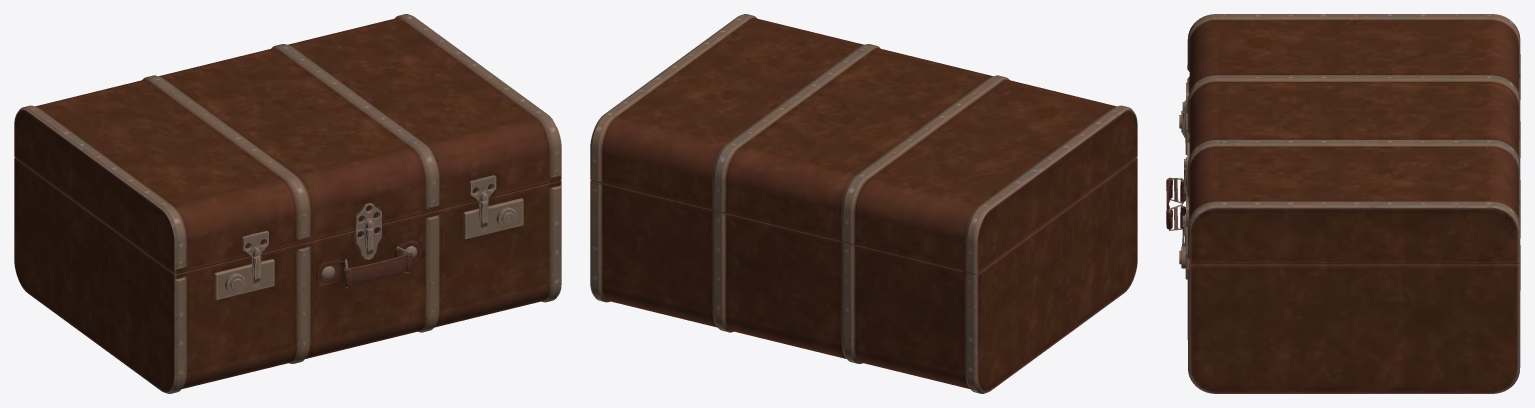
Rendered from suitB.glb.
3 renders of one model, left to right at view 1: azimuth 30°, elevation 25°; view 2: azimuth 150°, elevation 25°; view 3: azimuth 270°, elevation 25°, orthographic. The views are drawn at different scales.
Visible parts, largest first — view 1: Object_3; view 2: Object_3; view 3: Object_3.
Boxes of the visible parts, left/top/right/bottom form: Object_3: left=14, top=14, right=561, bottom=393; Object_3: left=590, top=14, right=1137, bottom=393; Object_3: left=1166, top=14, right=1520, bottom=393.
Bounding box in the file's own units: 0.5158 × 0.2348 × 0.3989.
Materials: 1 (1 with a texture image).
